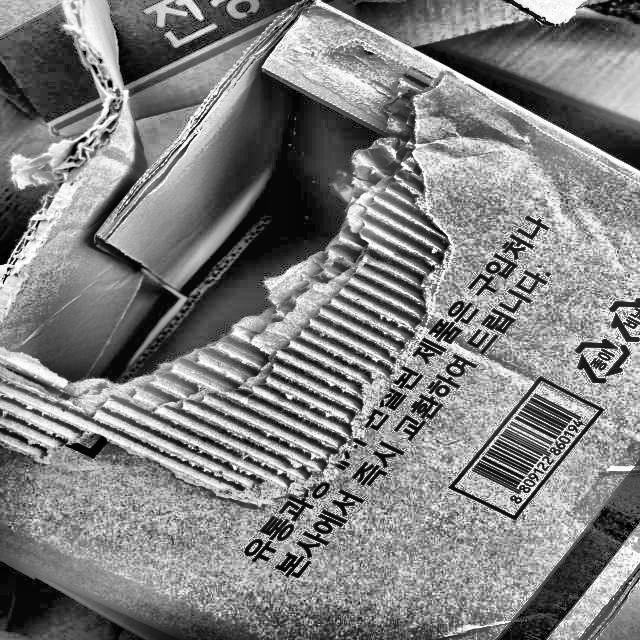box: (0, 0, 639, 639)
hole: (14, 9, 410, 383)
